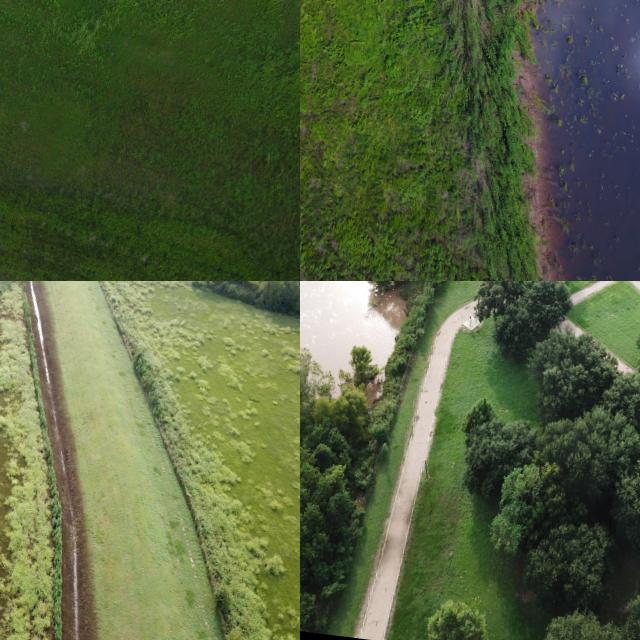fire: (535, 0, 640, 281), (300, 281, 404, 379)
